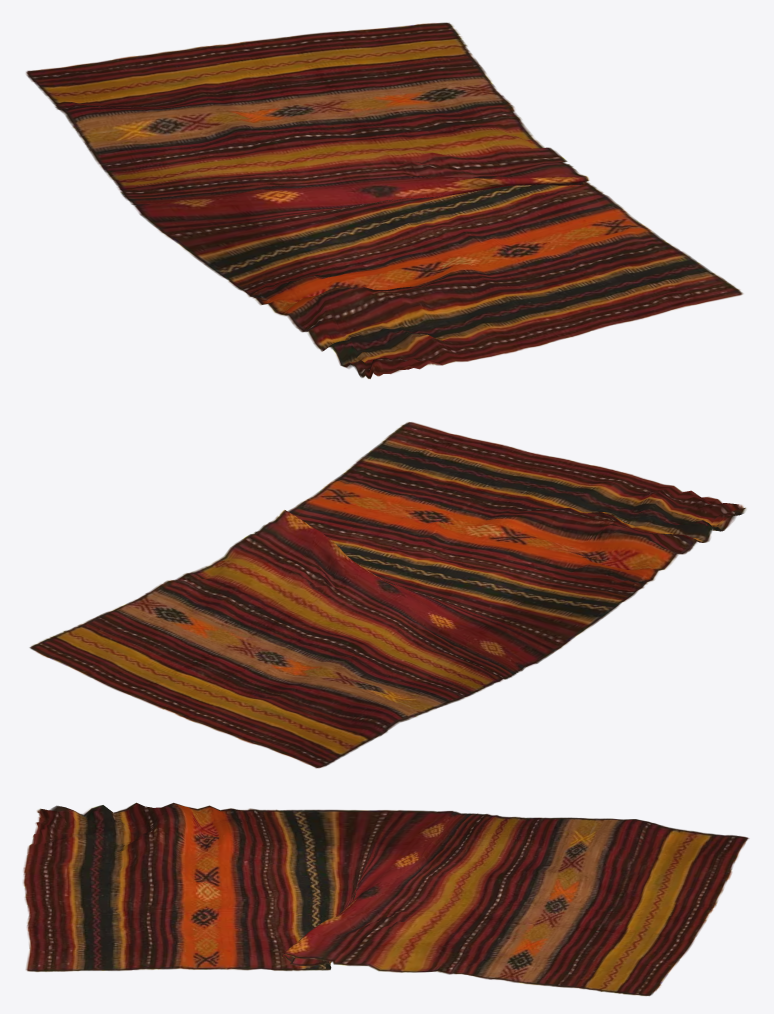
File: rug.glb
3 views of the same model, one above another, from view 1: azimuth 30°, elevation 25°; view 2: azimuth 150°, elevation 25°; view 3: azimuth 270°, elevation 25° (orthographic). The views are drawn at different scales.
Parts seen in each view (by area): view 1: Rug_2; view 2: Rug_2; view 3: Rug_2.
Part boxes in pixels (x1,y1,x2,y2): Rug_2: (26,22,743,378); Rug_2: (29,422,746,768); Rug_2: (23,802,749,996).
Bounding box in the file's own units: 1.14 × 0.0649 × 1.86.
Materials: 1 (1 with a texture image).
